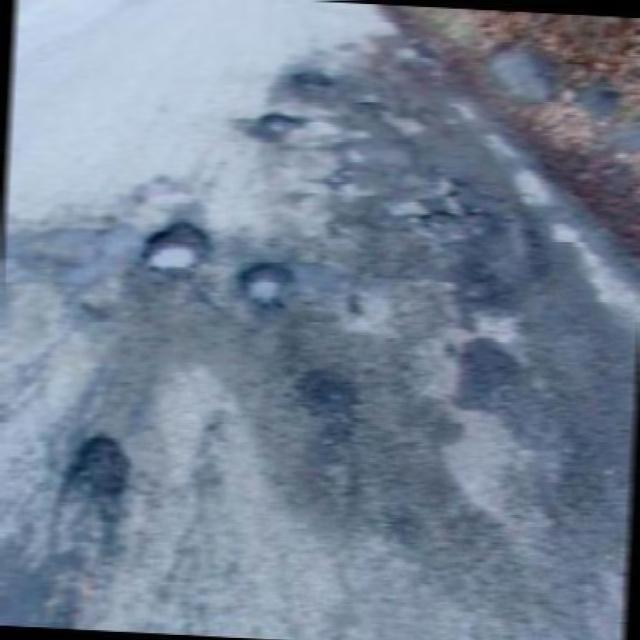Pothole: (133, 216, 219, 279), (230, 252, 302, 320), (68, 430, 134, 503), (297, 368, 362, 434), (454, 340, 520, 404), (420, 197, 494, 251), (243, 106, 307, 146), (323, 158, 382, 196), (290, 65, 332, 93), (350, 96, 388, 118)
